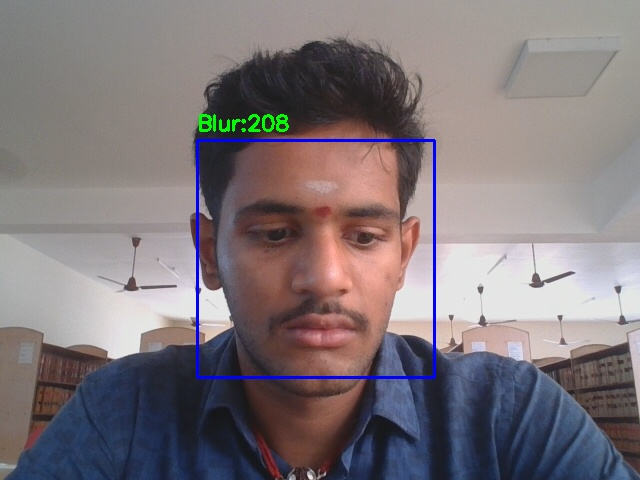real: (197, 140, 434, 377)
